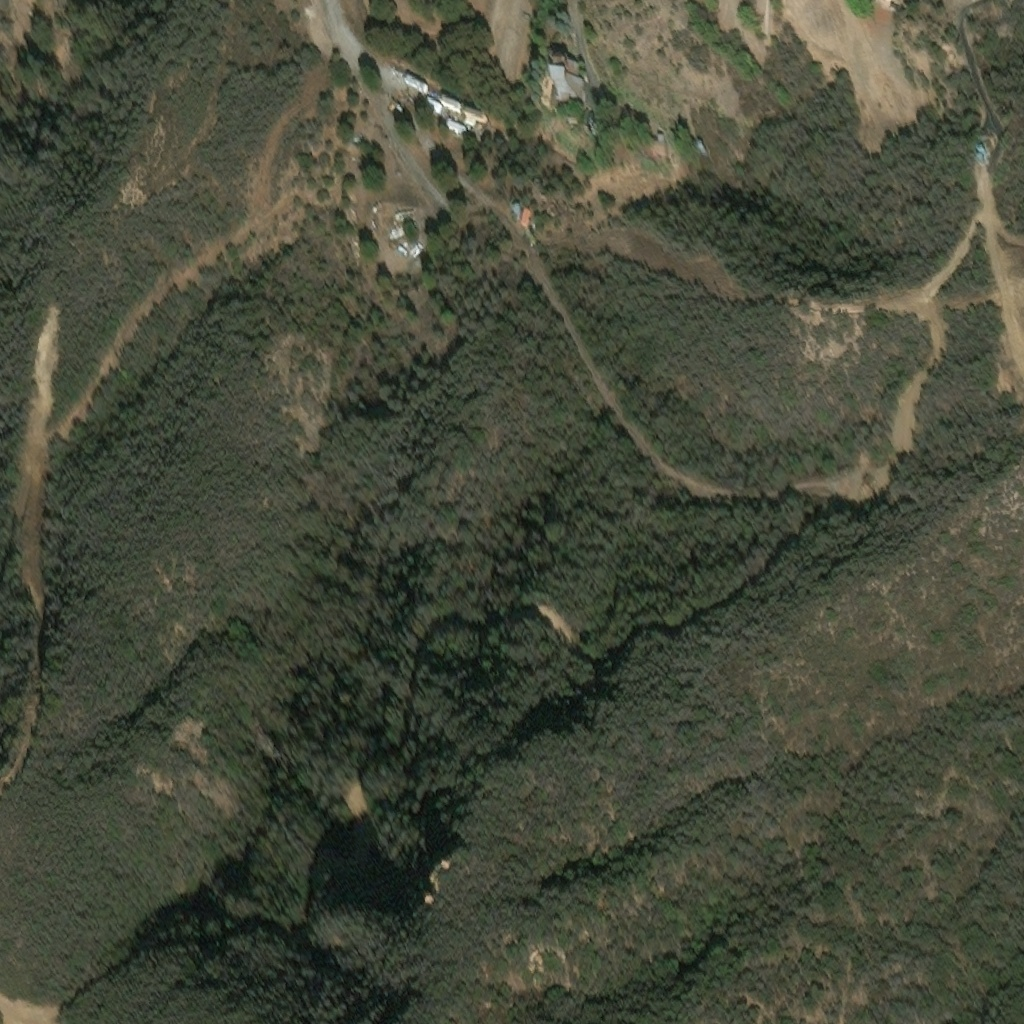0 no-damage: (550, 54, 583, 99), (402, 66, 424, 84), (435, 86, 457, 102), (460, 98, 481, 114), (441, 106, 461, 121), (420, 87, 438, 102), (645, 128, 663, 140), (519, 206, 530, 222)
